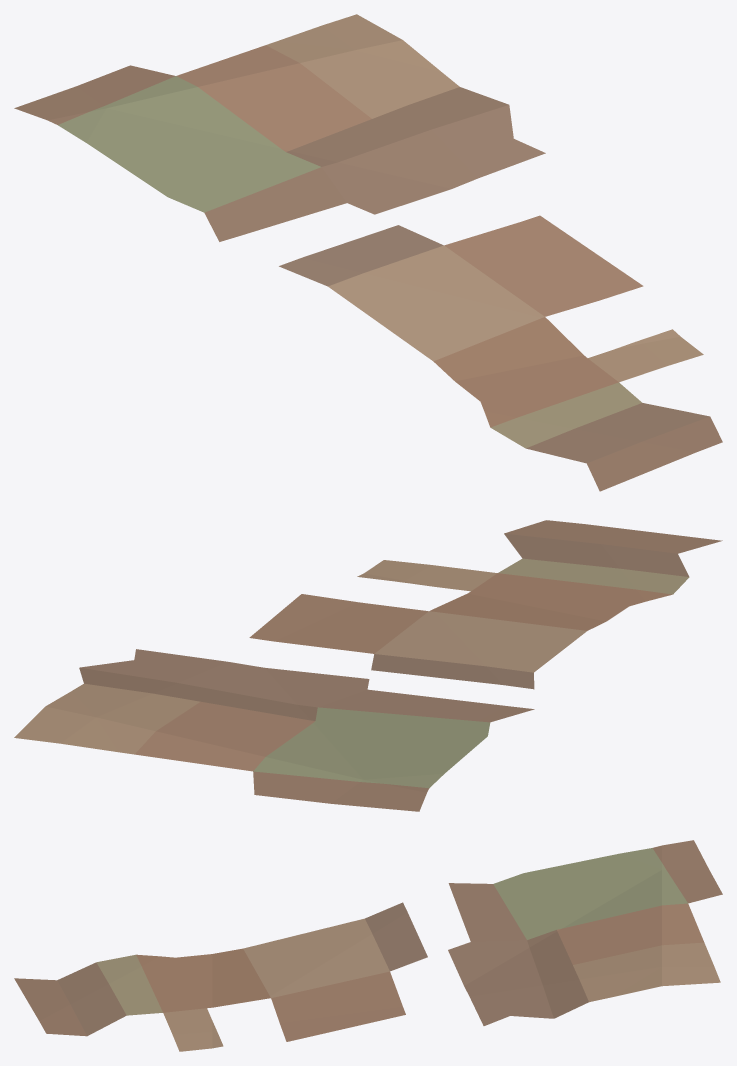
File: farm_-37_-35_soil.glb
3 renders of one model, top to bottom at view 1: azimuth 30°, elevation 25°; view 2: azimuth 150°, elevation 25°; view 3: azimuth 270°, elevation 25°, orthographic. The views are drawn at different scales.
Parts seen in each view (by area): view 1: geometry_0; view 2: geometry_0; view 3: geometry_0.
Boxes of the visible parts, bbox=[...] form: geometry_0: bbox=[14, 14, 722, 491]; geometry_0: bbox=[14, 520, 722, 811]; geometry_0: bbox=[14, 840, 722, 1051].
Size of the model in its own units: 131 by 31.73 by 252.
